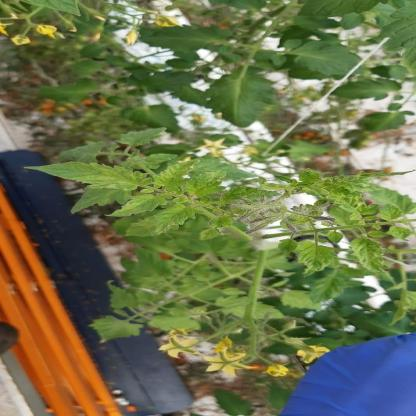T_L_H: (207, 67, 275, 128), (27, 162, 149, 191)
